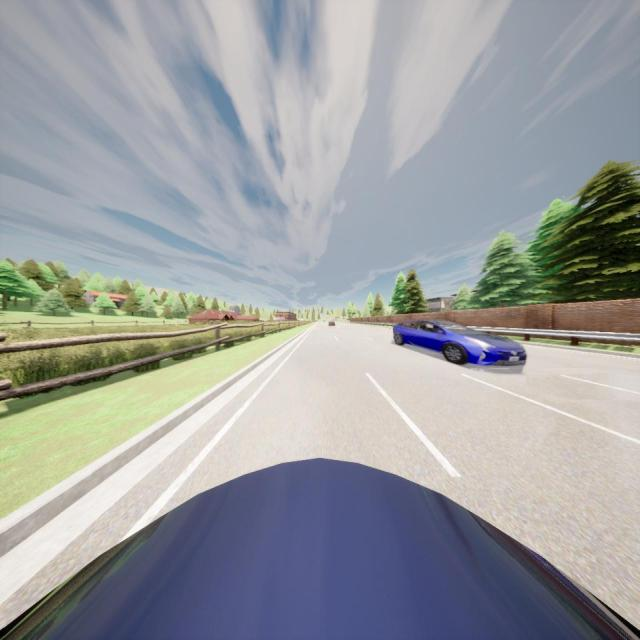Vehicle: (0, 457, 640, 640), (393, 320, 526, 365), (328, 321, 336, 326)
